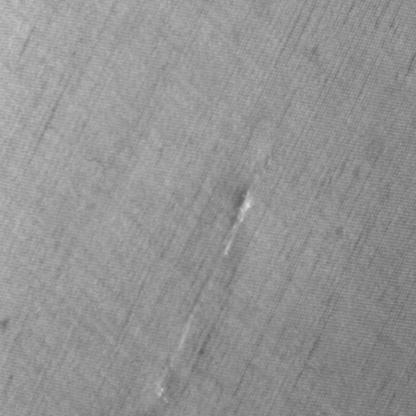thread error: (212, 152, 272, 267), (149, 359, 183, 409)
